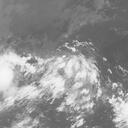cyclone: (43, 55, 101, 113)
